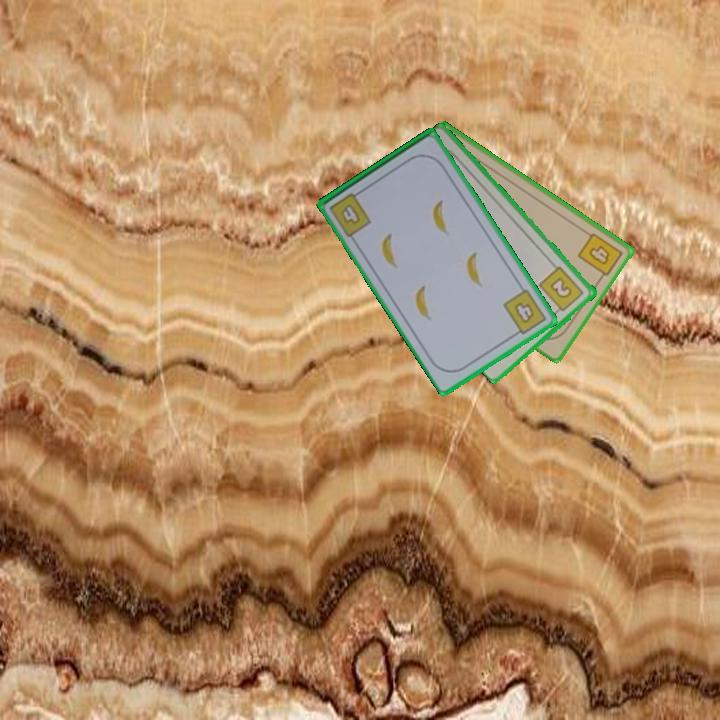2b: (536, 263, 587, 317)
4b: (574, 229, 626, 284), (500, 285, 550, 340), (326, 186, 375, 240)
